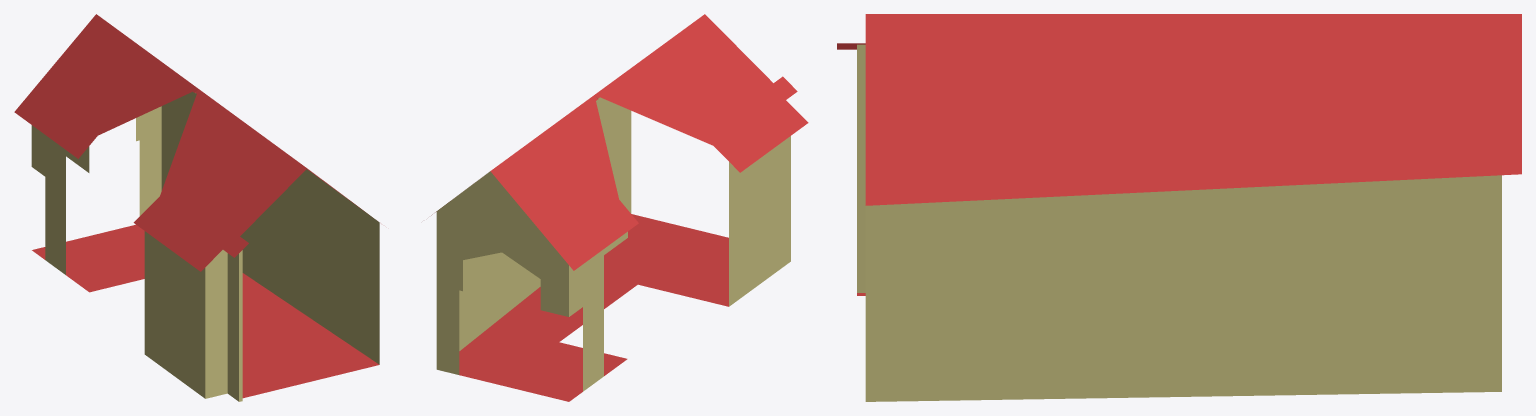
3 views of the same model, side by side, from view 1: azimuth 30°, elevation 25°; view 2: azimuth 150°, elevation 25°; view 3: azimuth 270°, elevation 25° (orthographic). The views are drawn at different scales.
Bounding box in the file's own units: 12.78 × 25.99 × 13.94.
